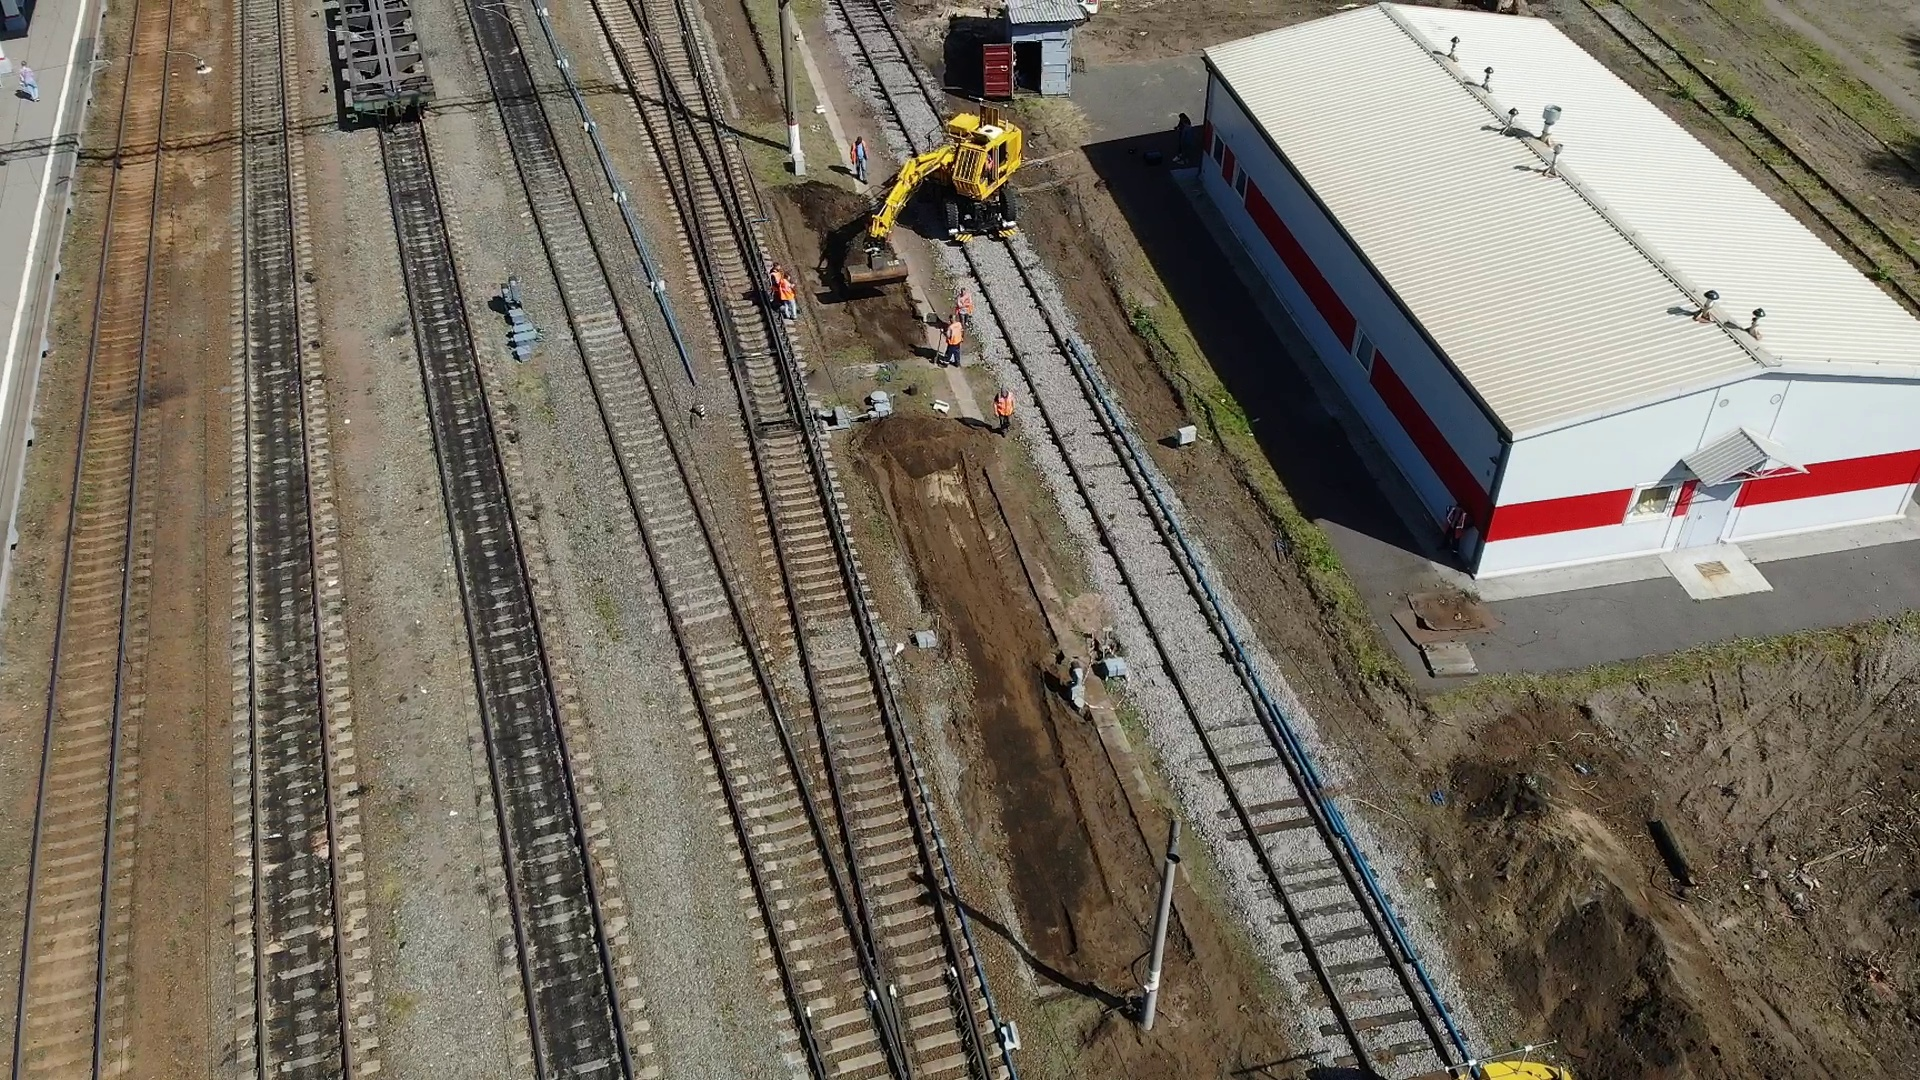kjtv: (935, 114, 1021, 237)
